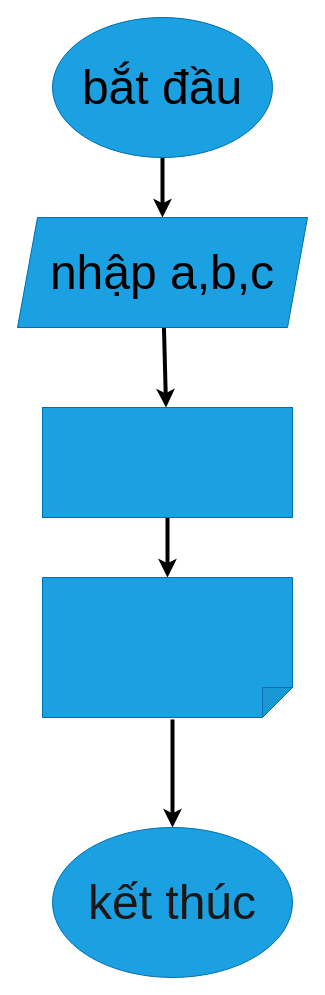
The diagram is 325 pixels wide and 995 high, and some of its shapes have lost their labels. Here are the shapes that lost their labels. From the top down, the centre of each, then its label:
(167,462): d= a+b+c
(167,647): kết quả
